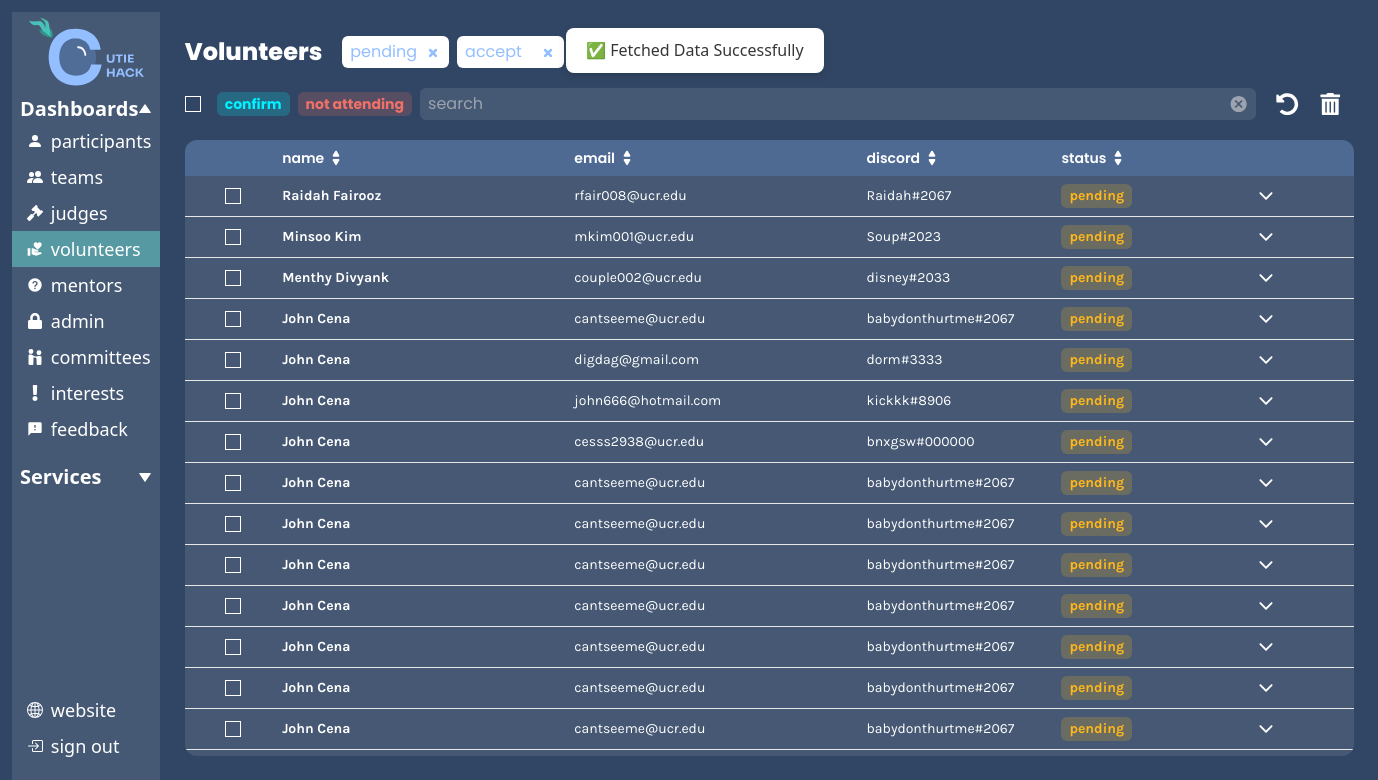
Scenario: Volunteers Filters › Click Pending
What coordinates should you click on to do the following:
click the element with test id "pending-filter"
I would click on:
 (396, 52)
Its box is [342,36,449,68].
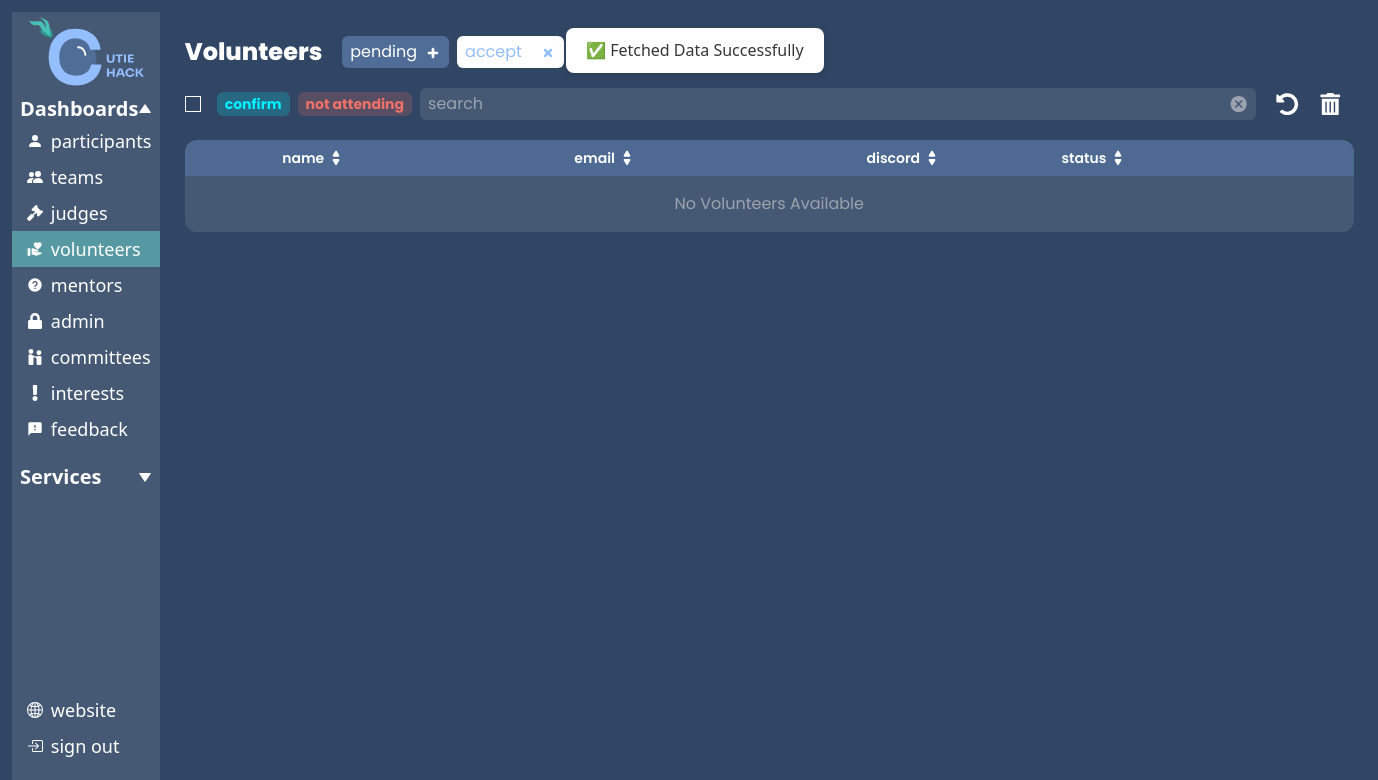
Result: the element with test id "1" is gone
Result: the element with test id "2" is gone
Result: the element with test id "3" is gone
